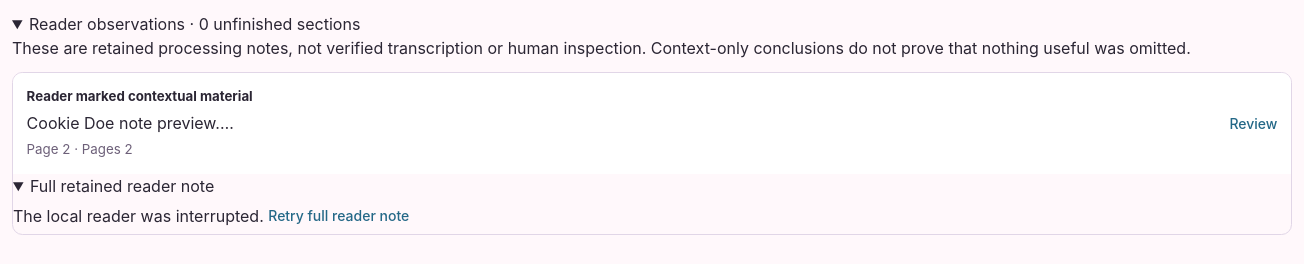
Test: retries a failed full reader note for the same selected unit without changing review
The width and height of the screenshot is (1304, 264).
Expected: the text "The local reader was interrupted." is shown, [13,205,264,225]
Expected: the text "Cookie Doe complete retained note." is not shown
What coordinates should you click on to do the following:
click the button "Retry full reader note"
I would click on:
 (339, 216)
Its box is [268,198,409,234].
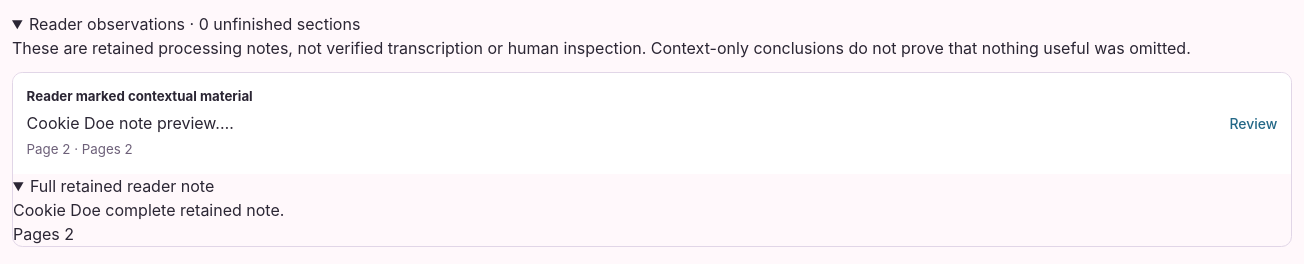
Expected: the text "Cookie Doe complete retained note." is shown, [13,200,284,220]
